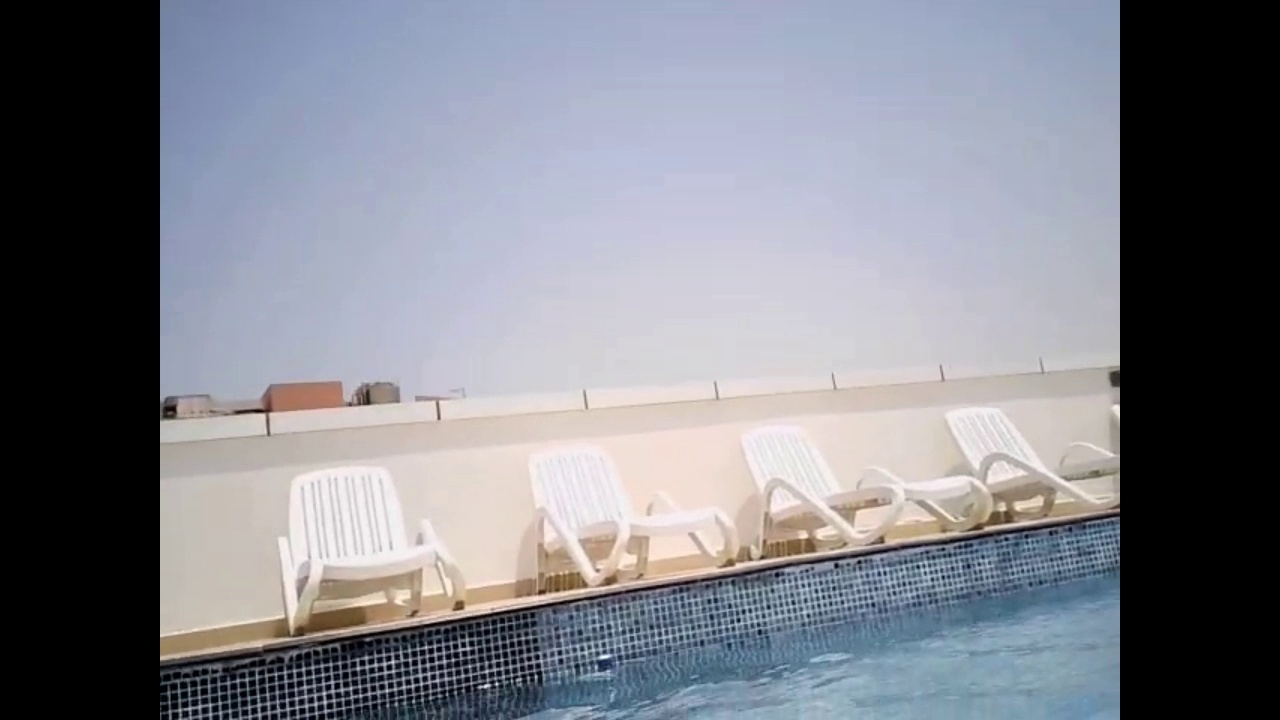debris: (592, 651, 623, 688)
